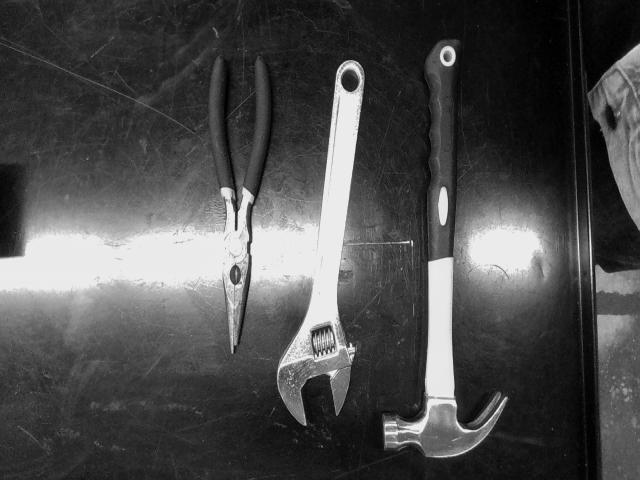Adjustable spanner: (278, 60, 365, 424)
Hammer: (382, 40, 508, 458)
Needle-nose pliers: (209, 55, 271, 352)
